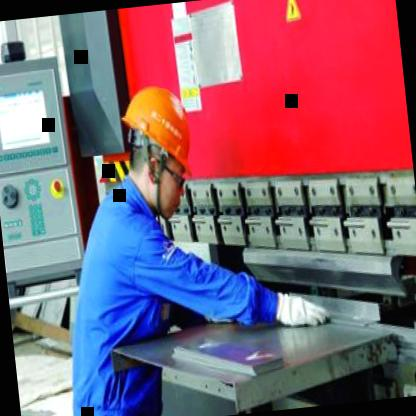helmet: (113, 68, 206, 219)
